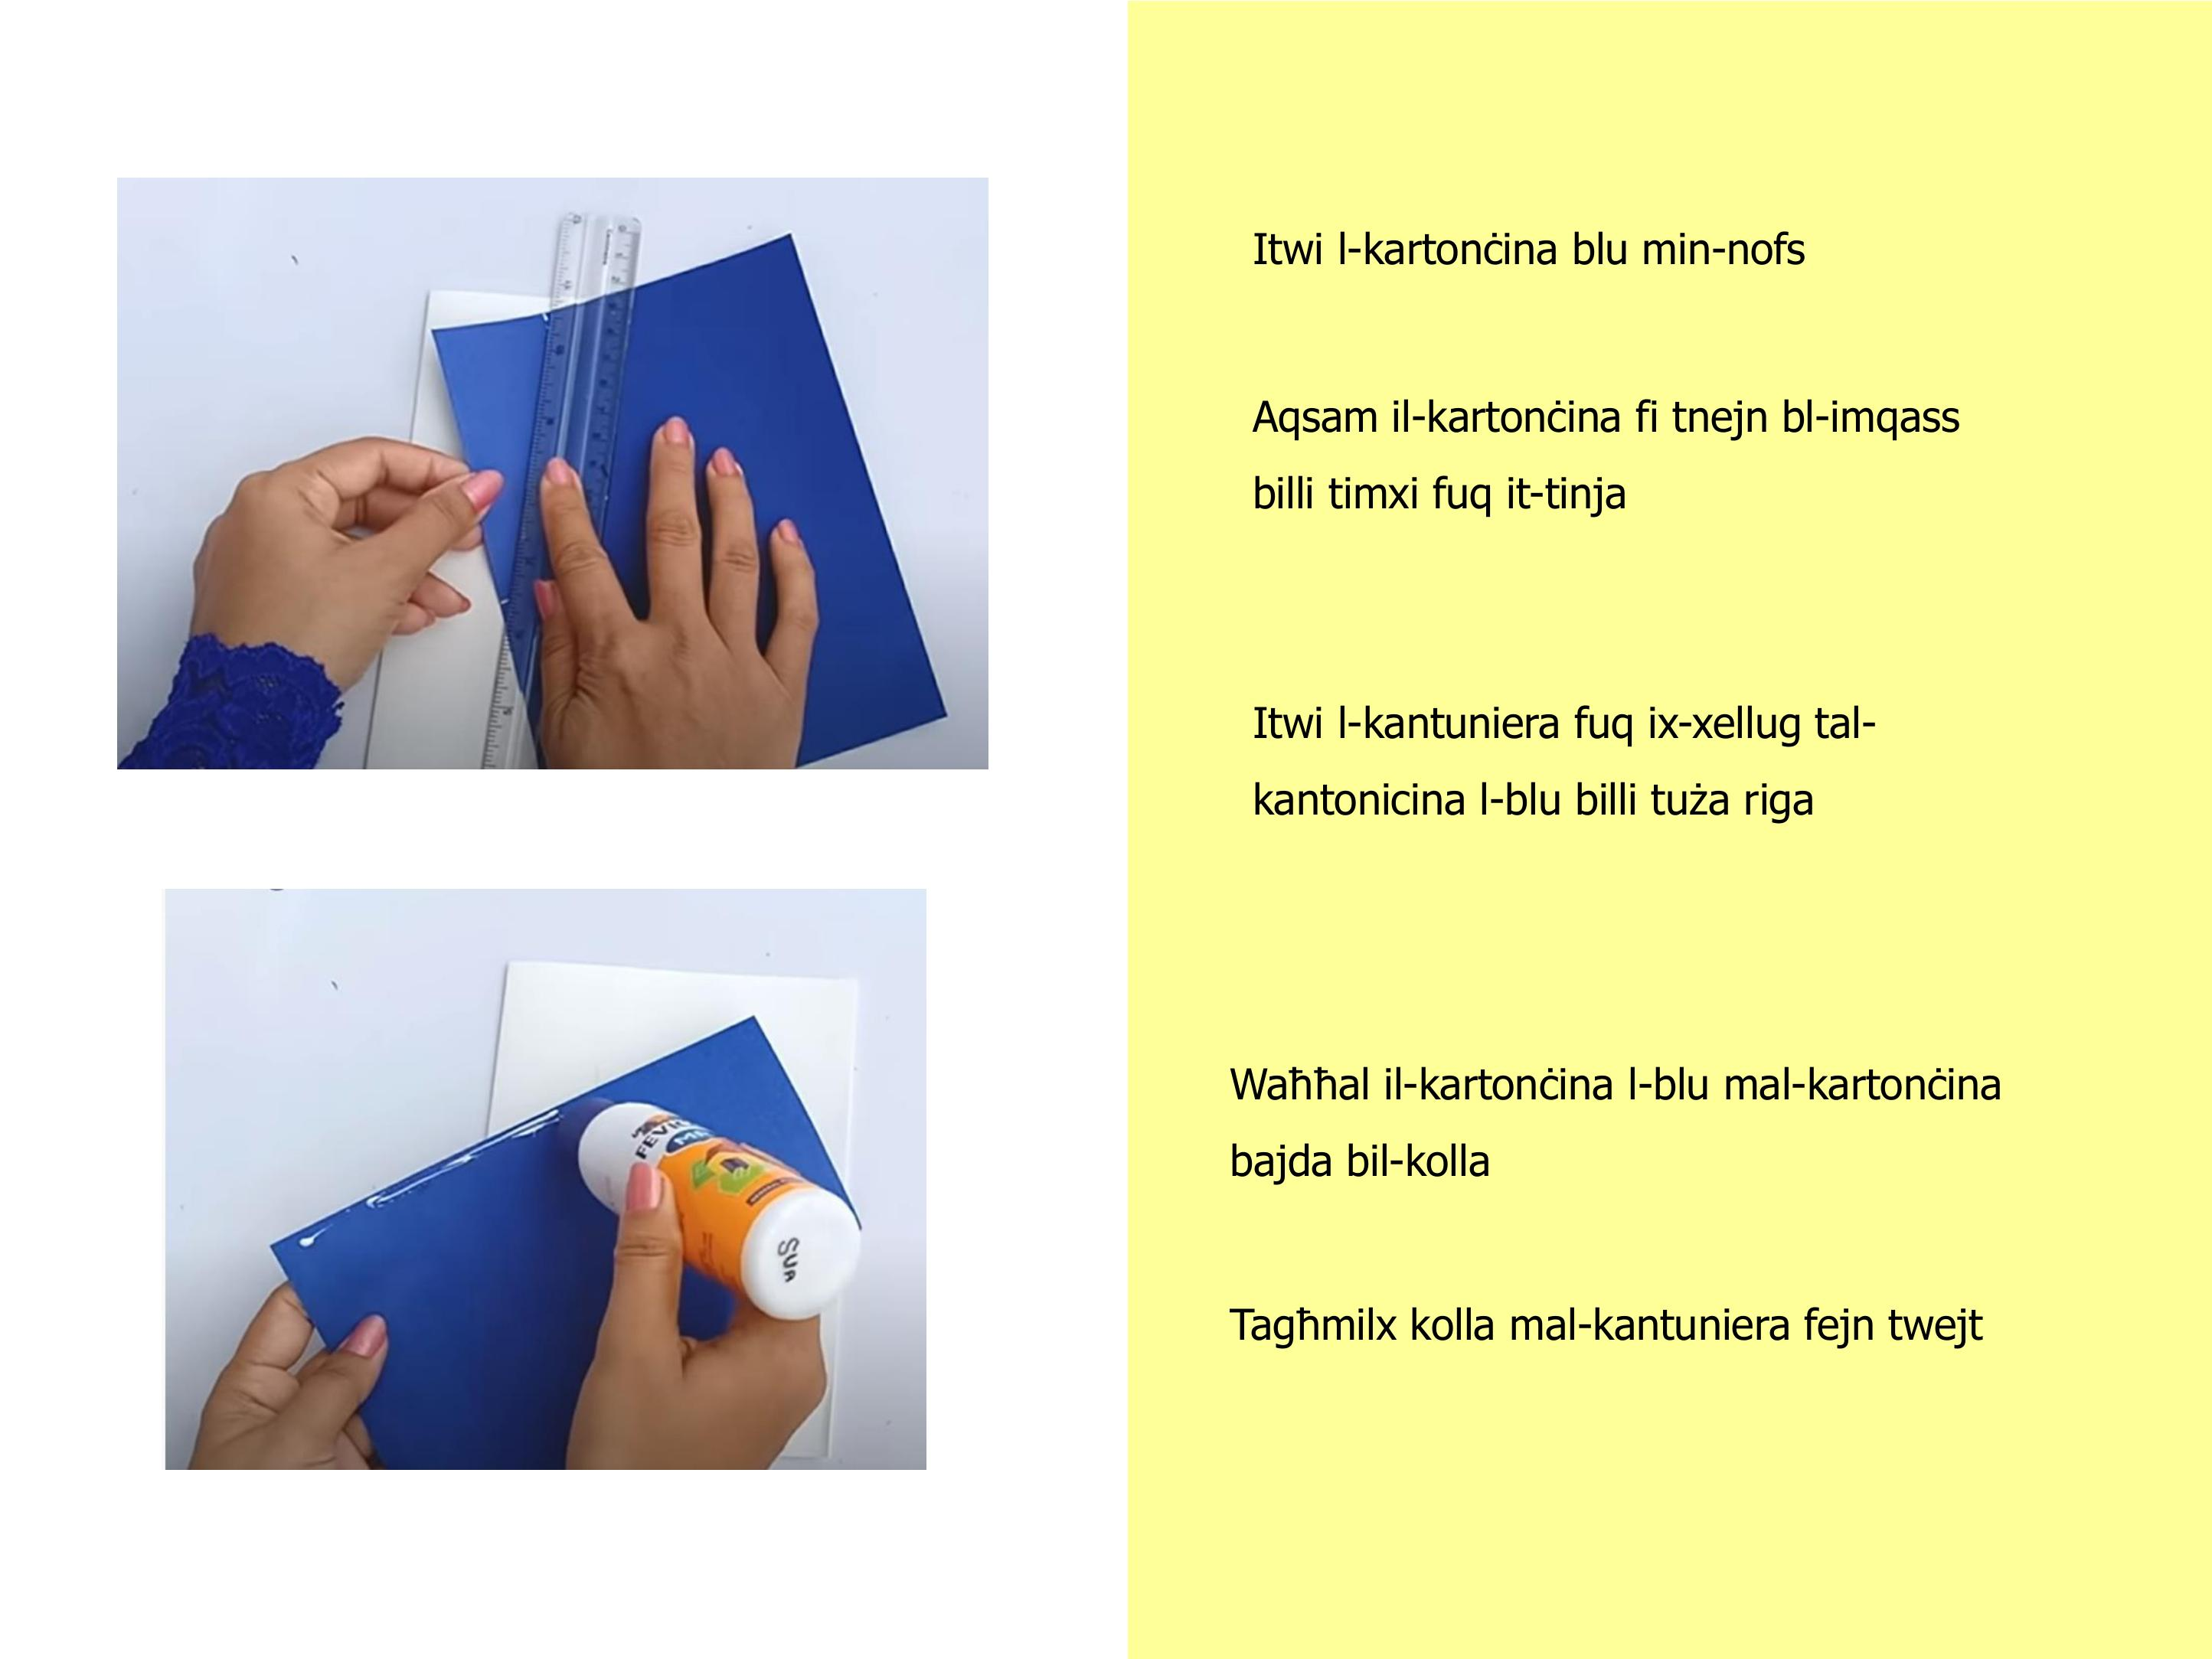text: (1210, 206, 2059, 1419)
